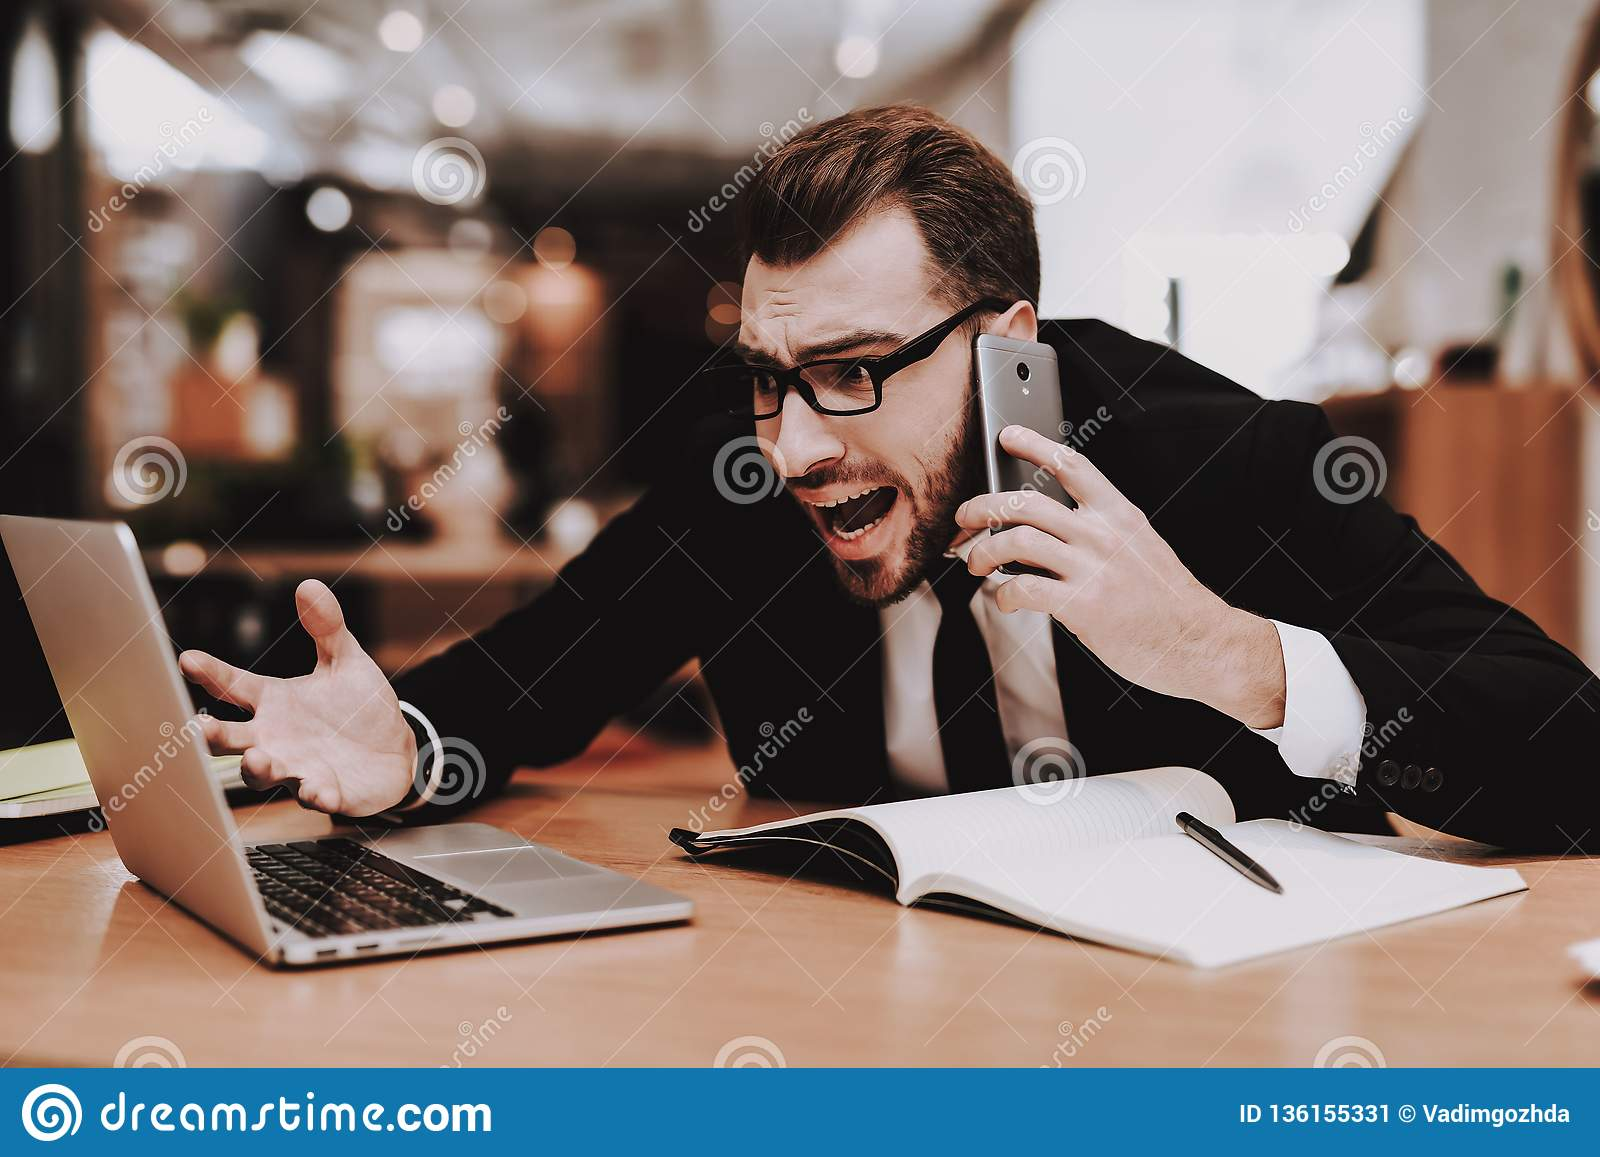phone: (971, 319, 1080, 584)
talk: (723, 281, 1209, 710)
